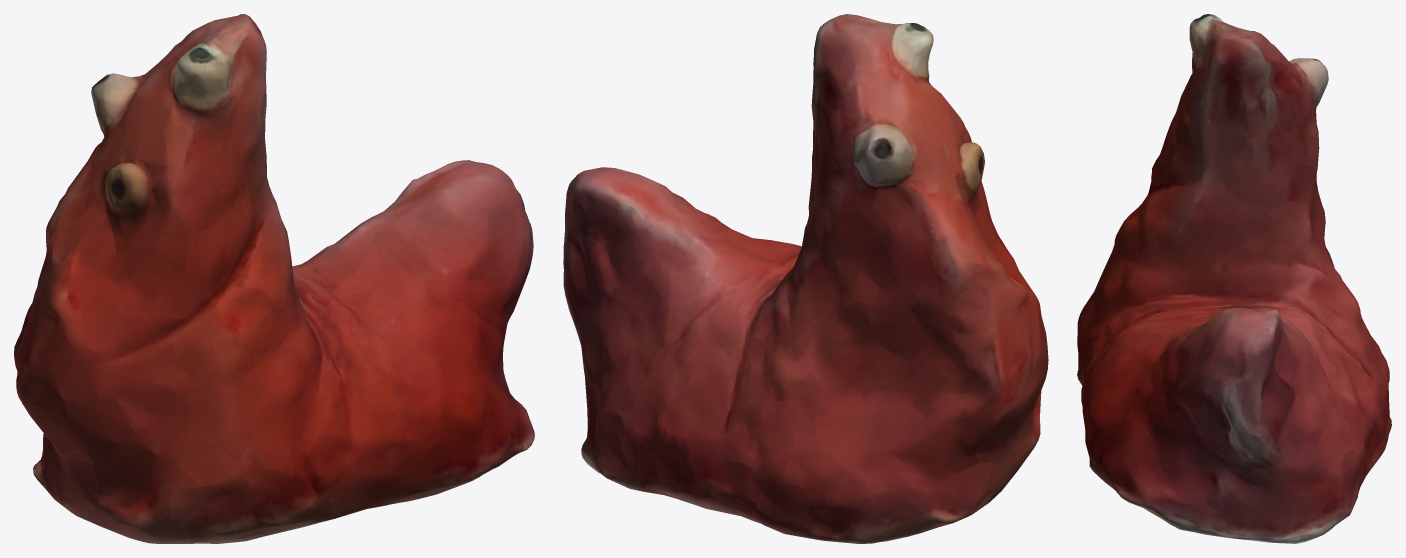
The model's file is yamWalkyamWalk13.fbx.
3 views of the same model, side by side, from view 1: azimuth 30°, elevation 25°; view 2: azimuth 150°, elevation 25°; view 3: azimuth 270°, elevation 25° (orthographic). The views are drawn at different scales.
Parts seen in each view (by area): view 1: yamWalk13; view 2: yamWalk13; view 3: yamWalk13.
Part boxes in pixels (x1,y1,x2,y2): yamWalk13: (14, 14, 534, 543); yamWalk13: (563, 14, 1048, 543); yamWalk13: (1077, 14, 1391, 543).
Size of the model in its own units: 0.0634 by 0.0615 by 0.041.
Materials: 1 (1 with a texture image).
